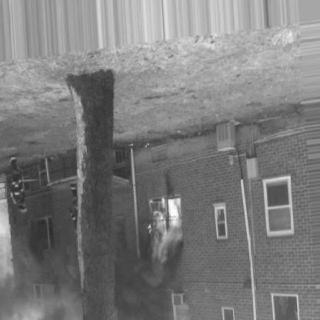Fire: (146, 197, 187, 251)
Smoke: (117, 254, 177, 314), (2, 283, 34, 317)
